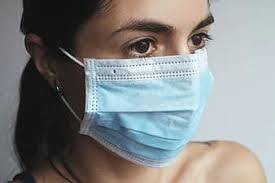with-mask: (27, 2, 231, 169)
